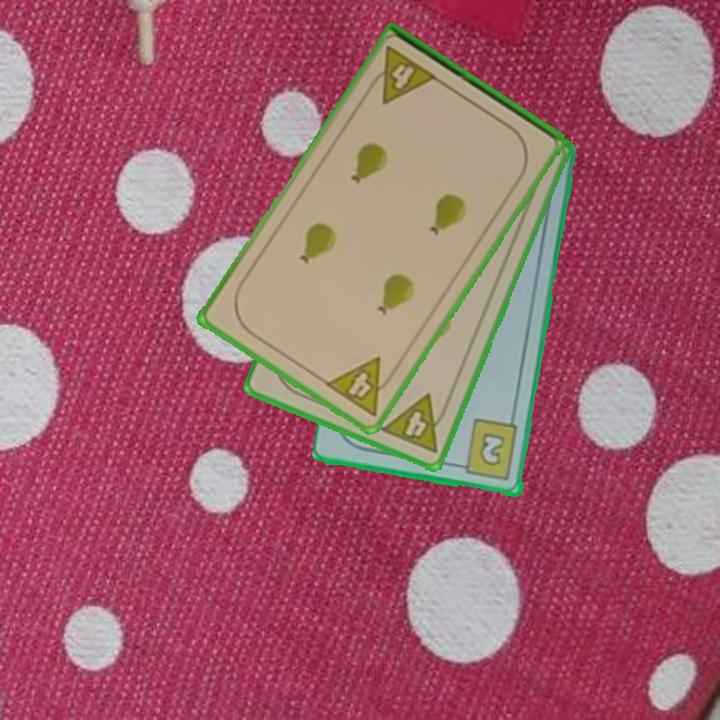2b: (453, 416, 521, 484)
4p: (321, 353, 401, 420), (377, 390, 453, 456), (363, 43, 441, 107)
